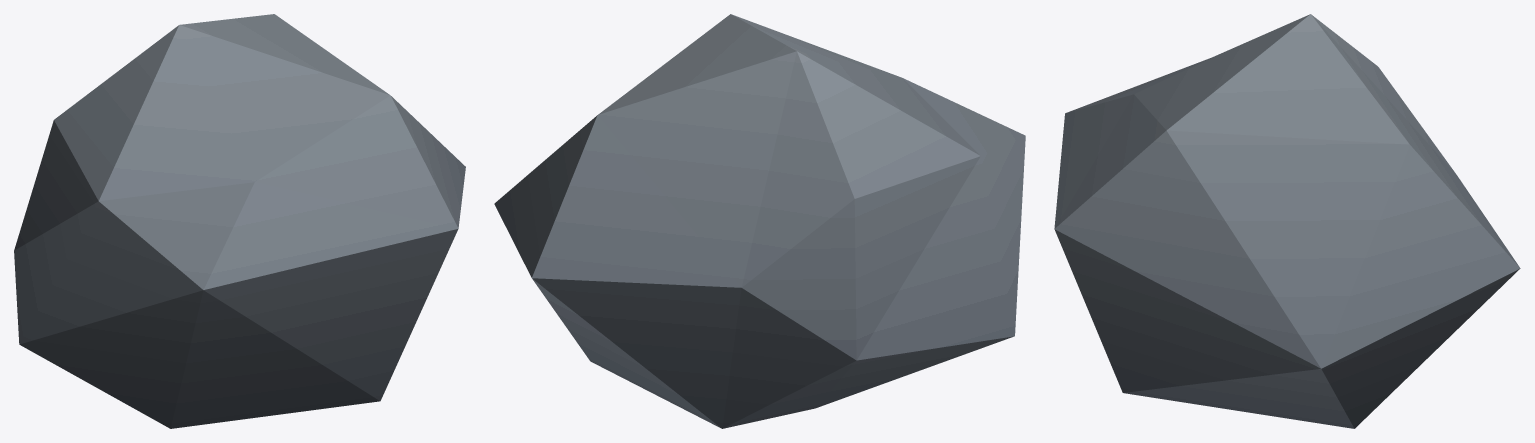
File: sm_forest_stone.fbx
3 renders of one model, left to right at view 1: azimuth 30°, elevation 25°; view 2: azimuth 150°, elevation 25°; view 3: azimuth 270°, elevation 25°, orthographic. The views are drawn at different scales.
Visible parts, largest first — view 1: sm_forest_stone; view 2: sm_forest_stone; view 3: sm_forest_stone.
Boxes of the visible parts, x1,y1,x2,y2 form: sm_forest_stone: [14, 14, 465, 428]; sm_forest_stone: [494, 14, 1025, 428]; sm_forest_stone: [1054, 14, 1520, 428].
Bounding box in the file's own units: 130 × 111 × 85.93.
